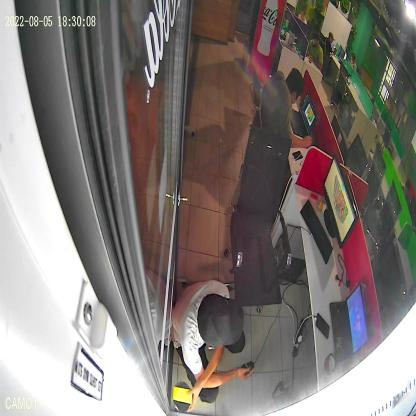yellow: (172, 381, 192, 413)
